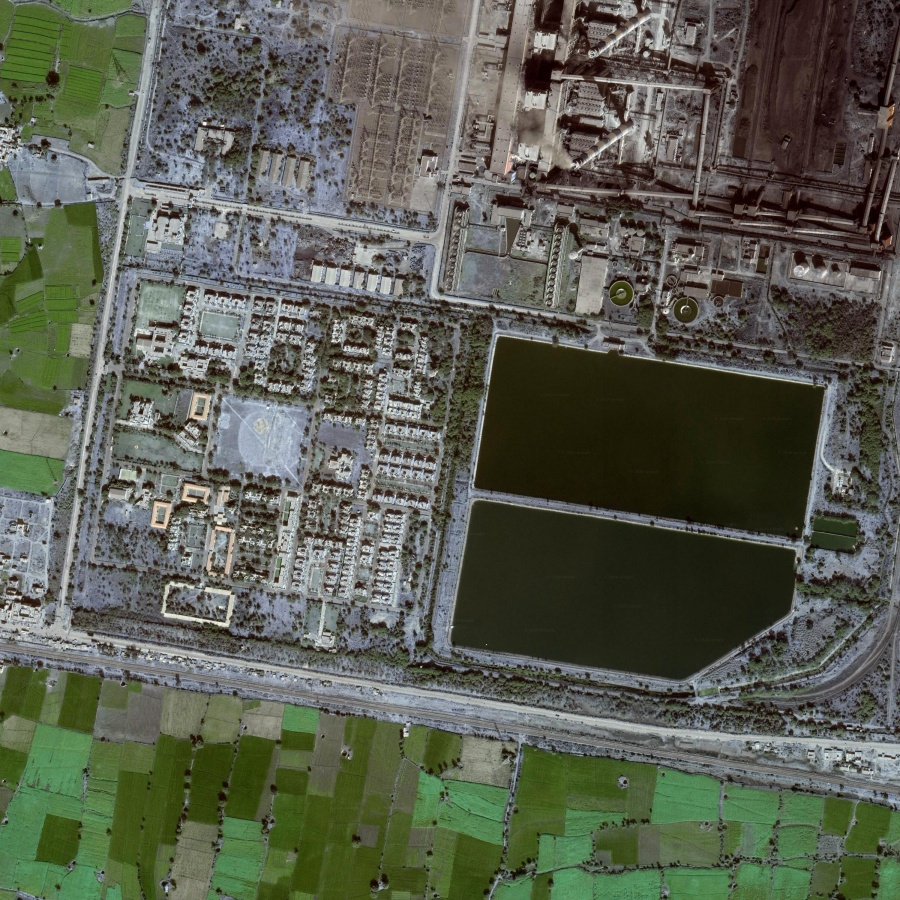PowerPlant: (422, 304, 842, 710)
